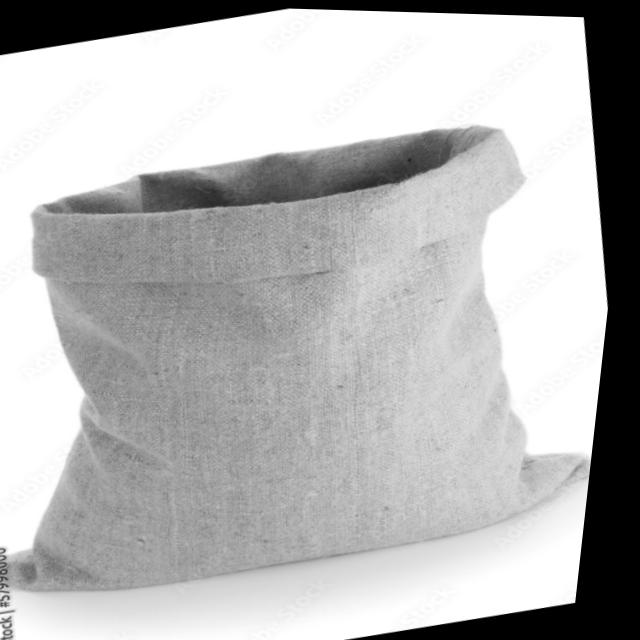sack: (0, 87, 632, 624)
